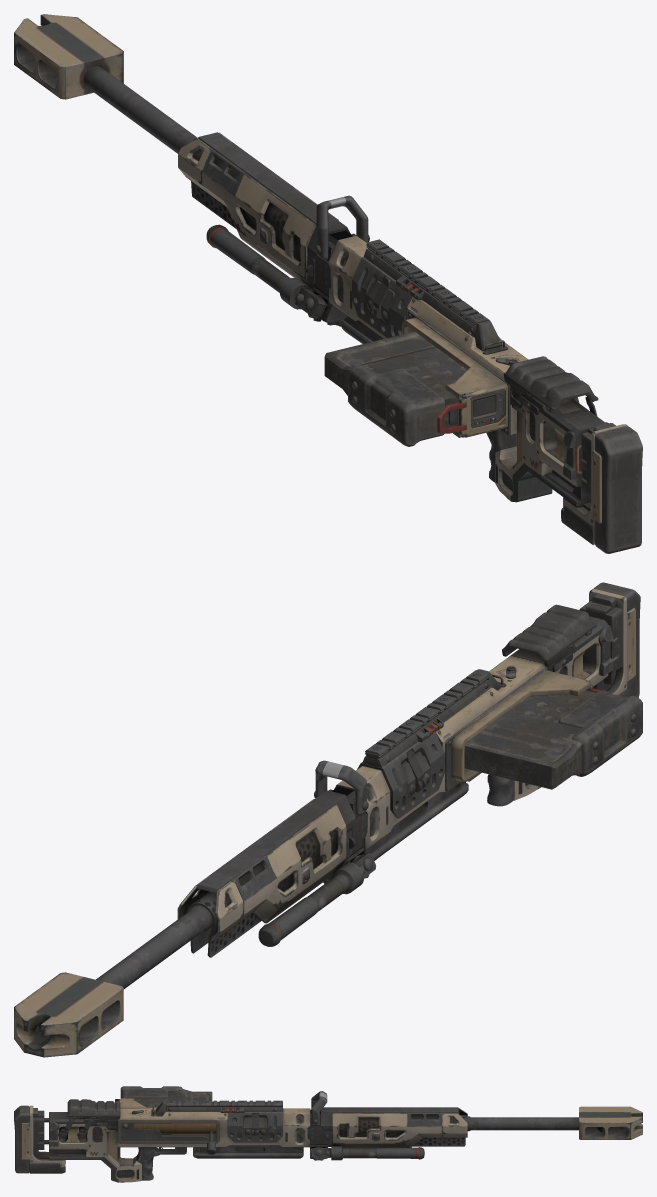
Rendered from apex_kraber.glb.
3 views of the same model, one above another, from view 1: azimuth 30°, elevation 25°; view 2: azimuth 150°, elevation 25°; view 3: azimuth 270°, elevation 25° (orthographic). The views are drawn at different scales.
Visible parts, largest first — view 1: body__tex_apex_kraber_2, mag__tex_apex_kraber_0; view 2: body__tex_apex_kraber_2, mag__tex_apex_kraber_0; view 3: body__tex_apex_kraber_2, mag__tex_apex_kraber_0, bolt__tex_apex_kraber_m1.
Boxes of the visible parts, <box> form: body__tex_apex_kraber_2: <box>14,14,642,553</box>; mag__tex_apex_kraber_0: <box>324,331,467,446</box>; body__tex_apex_kraber_2: <box>14,582,640,1057</box>; mag__tex_apex_kraber_0: <box>464,690,642,789</box>; body__tex_apex_kraber_2: <box>14,1091,642,1182</box>; mag__tex_apex_kraber_0: <box>120,1086,212,1136</box>; bolt__tex_apex_kraber_m1: <box>134,1123,216,1154</box>.
Size of the model in its own units: 0.2955 by 0.2628 by 1.79.
Materials: 1 (1 with a texture image).
